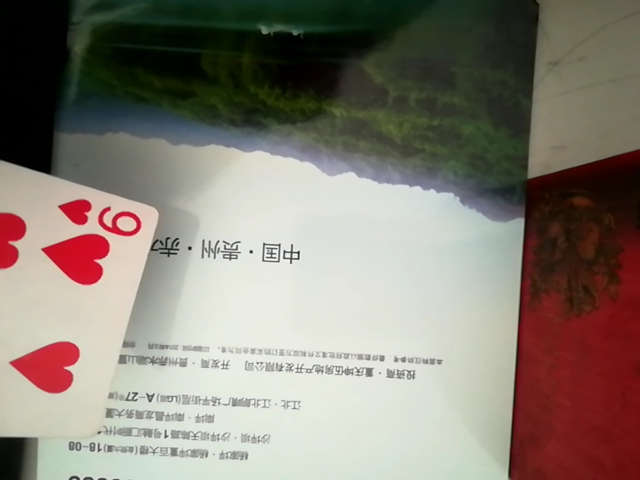hx 9: (0, 129, 158, 436)
